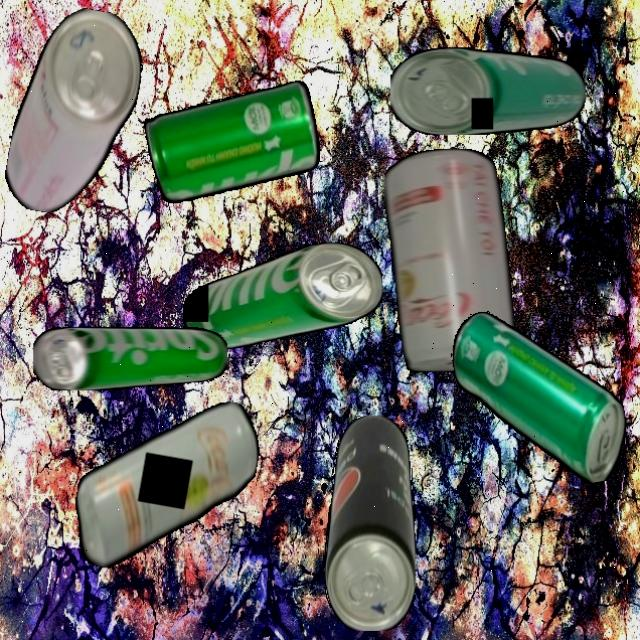debris: (65, 379, 267, 590), (445, 291, 636, 503), (0, 0, 151, 224), (384, 148, 516, 373), (142, 80, 325, 206), (181, 243, 383, 349), (324, 415, 416, 631), (390, 46, 586, 135), (34, 326, 228, 390)
